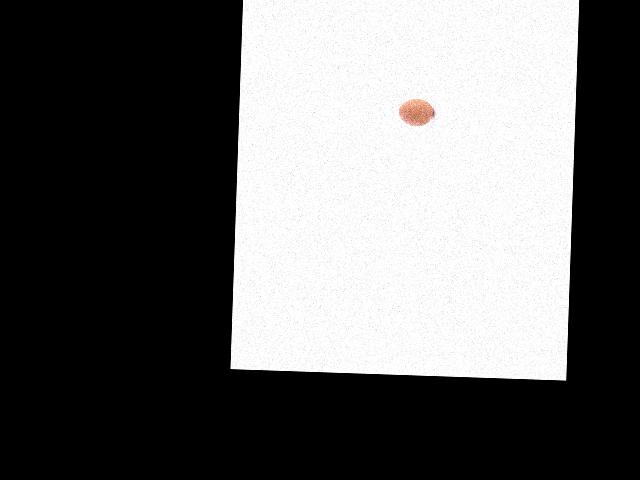egg: (398, 98, 433, 127)
